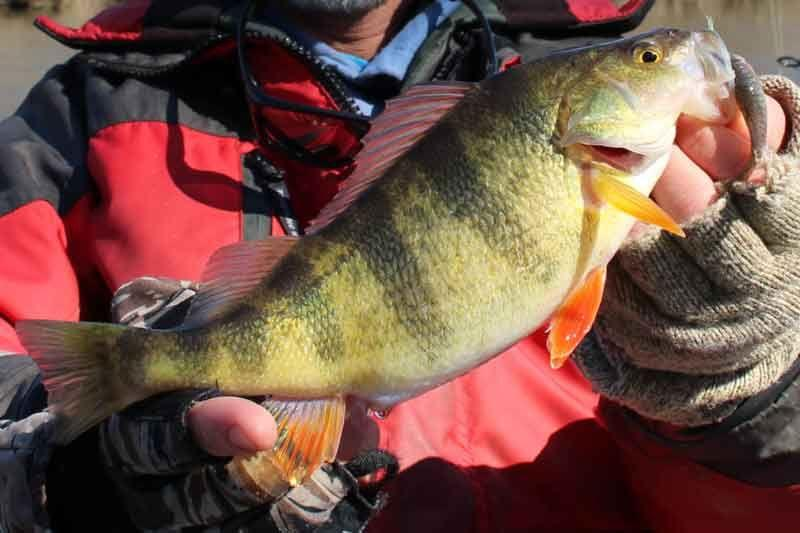Perch: (16, 26, 754, 490)
